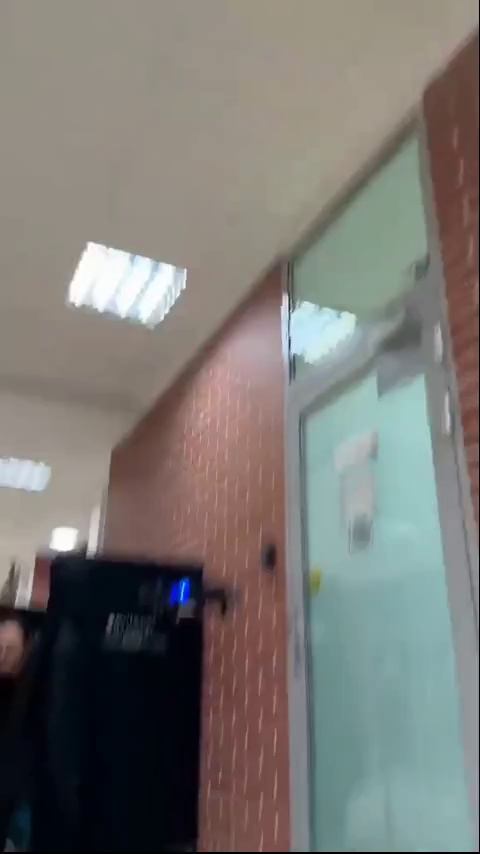drone: (146, 583, 242, 626)
